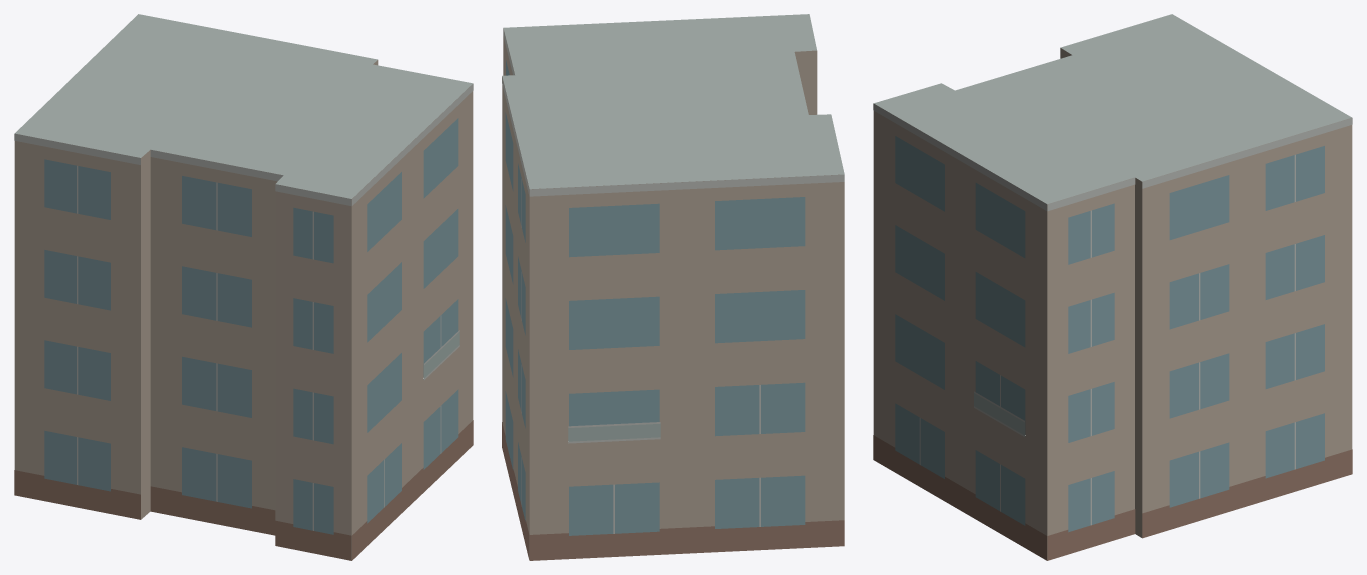
The model's file is survey-upis-32976994.glb.
3 renders of one model, left to right at view 1: azimuth 30°, elevation 25°; view 2: azimuth 150°, elevation 25°; view 3: azimuth 270°, elevation 25°, orthographic. The views are drawn at different scales.
Visible parts, largest first — view 1: survey-upis-32976994.tmp; view 2: survey-upis-32976994.tmp; view 3: survey-upis-32976994.tmp.
Part boxes in pixels (x1,y1,x2,y2): survey-upis-32976994.tmp: (14, 14, 473, 560); survey-upis-32976994.tmp: (502, 14, 844, 560); survey-upis-32976994.tmp: (873, 14, 1352, 560).
Bounding box in the file's own units: 13.97 × 12.2 × 14.85.
